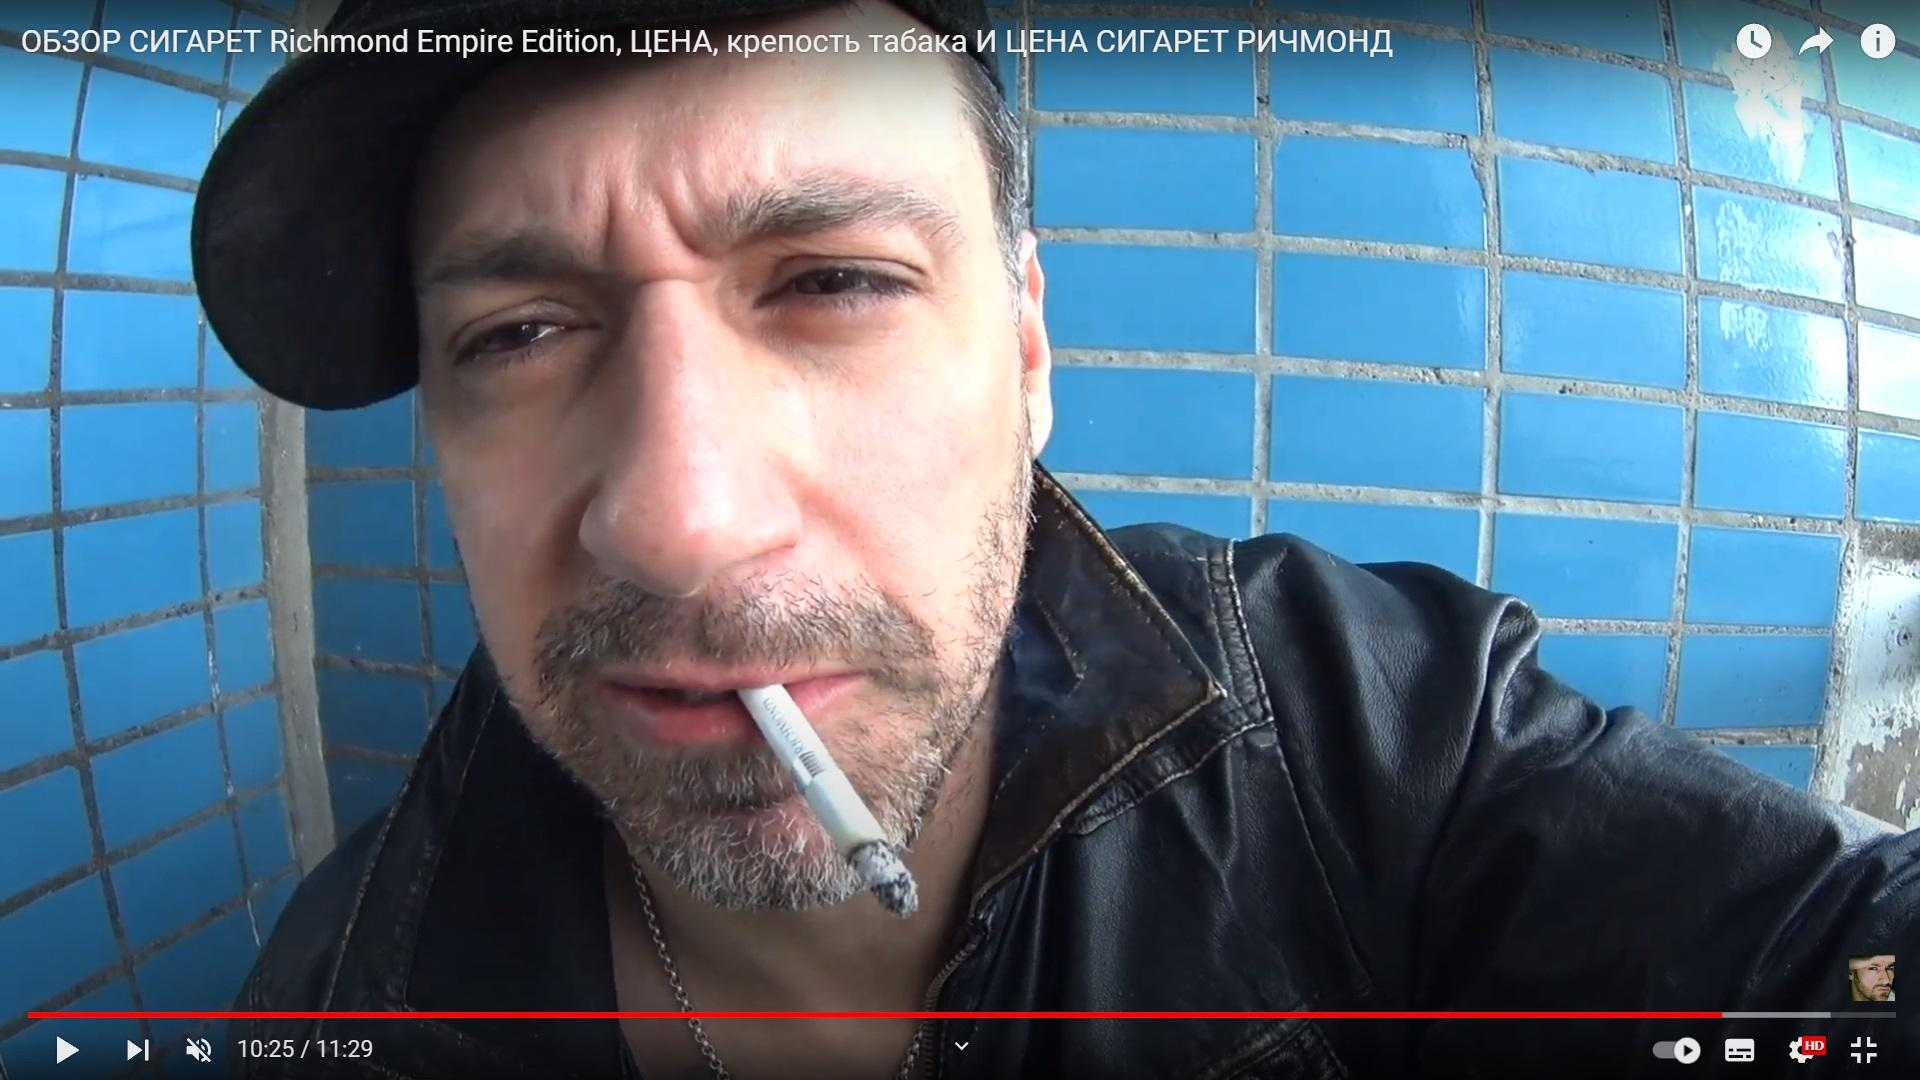cigarette: (736, 684, 920, 916)
